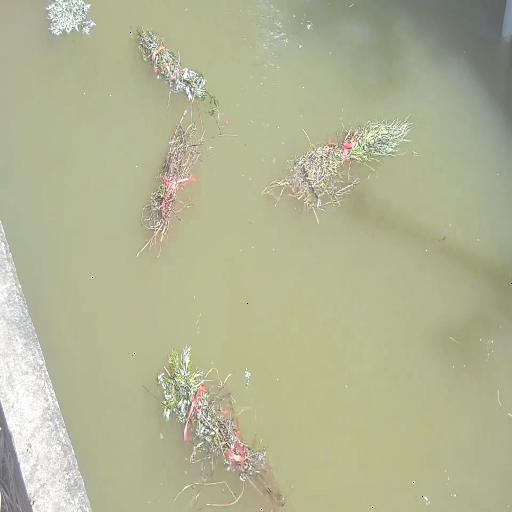twig: (154, 342, 283, 509), (266, 88, 408, 216), (137, 25, 225, 132), (138, 112, 201, 258), (44, 0, 96, 37)
